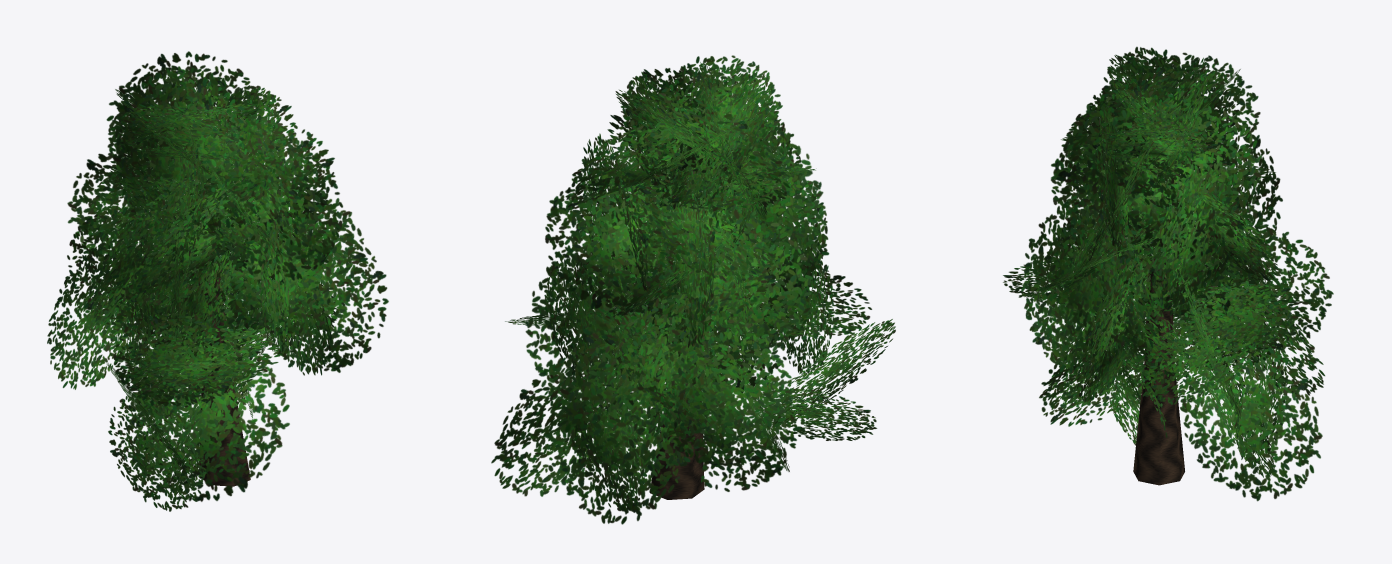
File: pine_a.glb
The picture shows the model from 3 angles, left to right: view 1: azimuth 30°, elevation 25°; view 2: azimuth 150°, elevation 25°; view 3: azimuth 270°, elevation 25°; orthographic projection. The views are drawn at different scales.
Parts seen in each view (by area): view 1: pine_a; view 2: pine_a; view 3: pine_a.
Boxes of the visible parts, <box> form: pine_a: <box>47,51,388,511</box>; pine_a: <box>491,55,895,524</box>; pine_a: <box>1003,46,1333,501</box>.
Bounding box in the file's own units: 1.33 × 1.85 × 1.48.
2 materials, 2 textured.
